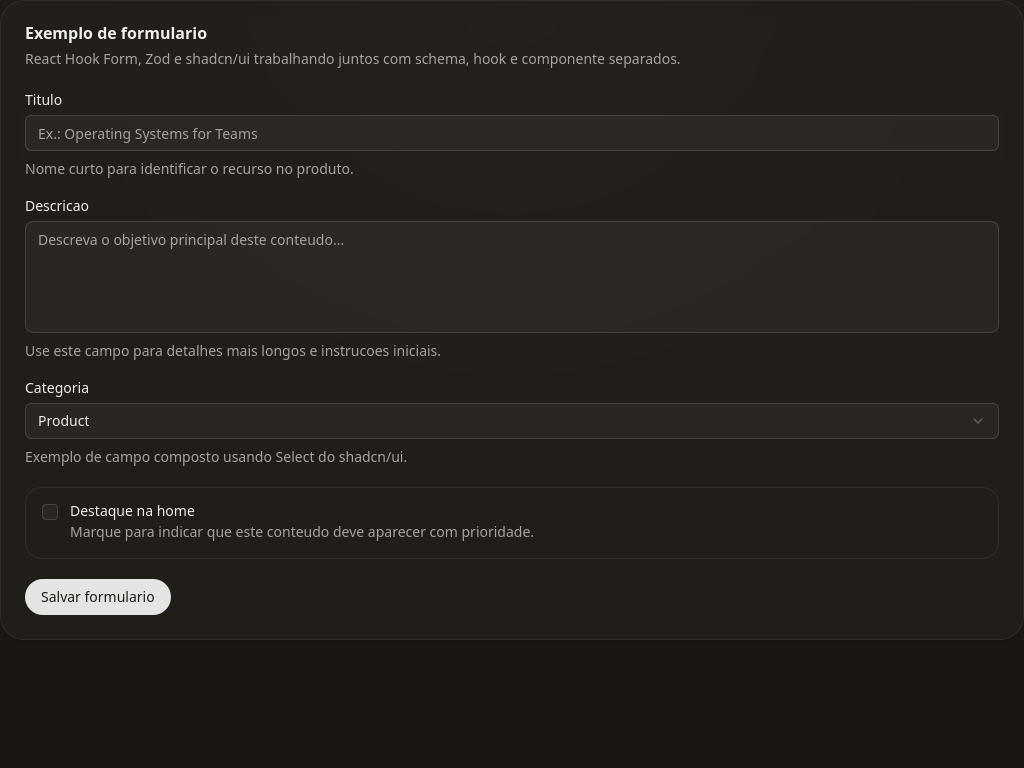
it: ExampleForm › exibe erros ao tentar enviar o formulario invalido
Click the button "Salvar formulario". click: (98, 597)
box: [25,579,171,615]
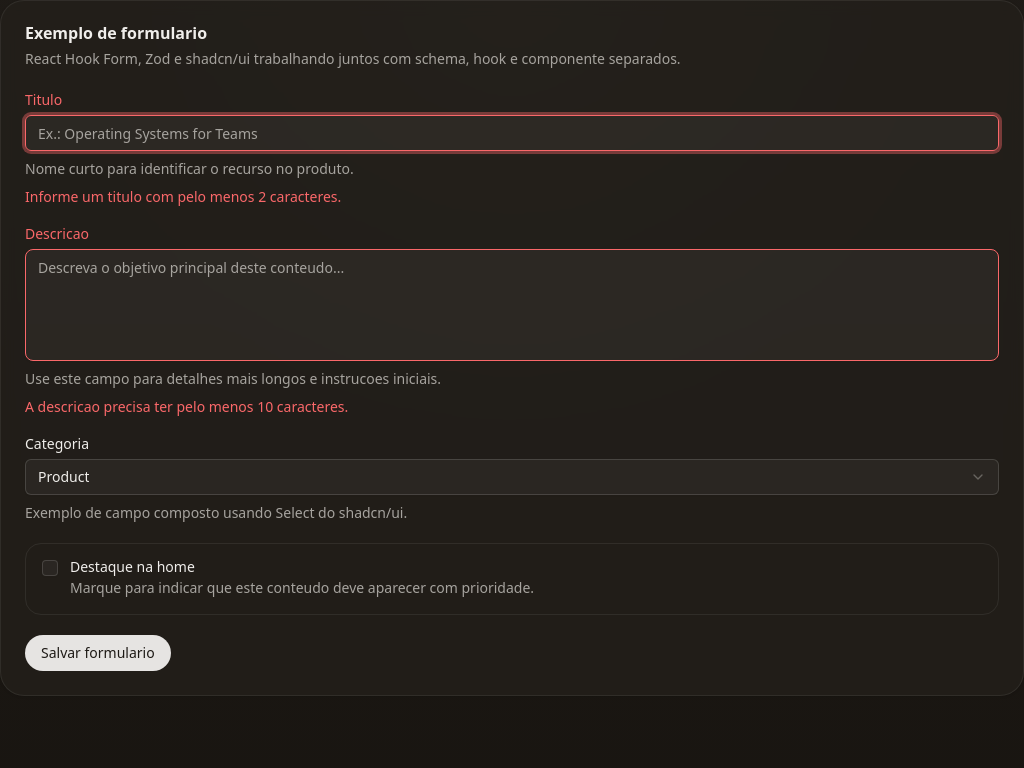
Expected: the text "Informe um titulo com pelo menos 2 caracteres." is shown, [25,187,341,206]
Expected: the text "A descricao precisa ter pelo menos 10 caracteres." is shown, [25,397,348,416]
